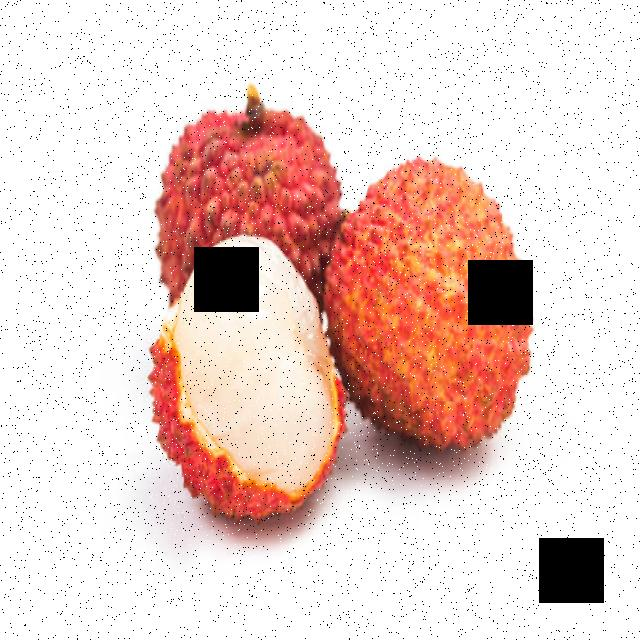lychee: (145, 83, 537, 562)
